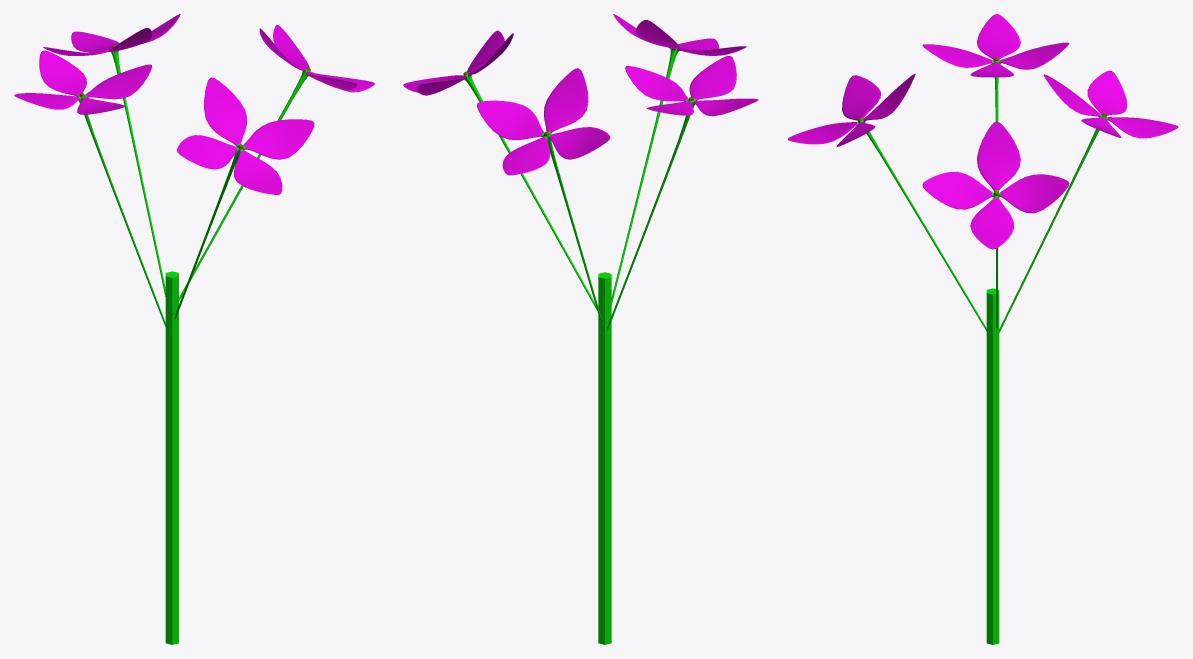
The model's file is pinkflower.fbx.
The picture shows the model from 3 angles, left to right: view 1: azimuth 30°, elevation 25°; view 2: azimuth 150°, elevation 25°; view 3: azimuth 270°, elevation 25°; orthographic projection. The views are drawn at different scales.
Parts seen in each view (by area): view 1: pinkflower2, stem, pinkflower1, pinkflower, pinkflower3; view 2: pinkflower, stem, pinkflower1, pinkflower2, pinkflower3; view 3: pinkflower3, stem, pinkflower, pinkflower2, pinkflower1.
Boxes of the visible parts, left/top/right/bottom form: pinkflower2: left=174, top=77, right=314, bottom=318; stem: left=165, top=271, right=178, bottom=644; pinkflower1: left=14, top=50, right=165, bottom=326; pinkflower: left=43, top=14, right=180, bottom=296; pinkflower3: left=179, top=25, right=374, bottom=300; pinkflower: left=477, top=68, right=610, bottom=320; stem: left=598, top=272, right=611, bottom=644; pinkflower1: left=606, top=56, right=758, bottom=331; pinkflower2: left=611, top=14, right=746, bottom=304; pinkflower3: left=403, top=30, right=607, bottom=327; pinkflower3: left=922, top=121, right=1069, bottom=328; stem: left=986, top=288, right=999, bottom=644; pinkflower: left=999, top=70, right=1178, bottom=332; pinkflower2: left=787, top=73, right=986, bottom=330; pinkflower1: left=922, top=14, right=1069, bottom=121.
Size of the model in its own units: 166 by 264 by 165.
